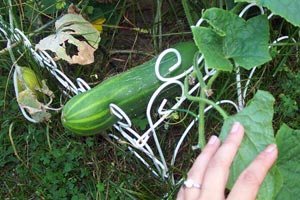cucumber: (58, 37, 200, 136)
